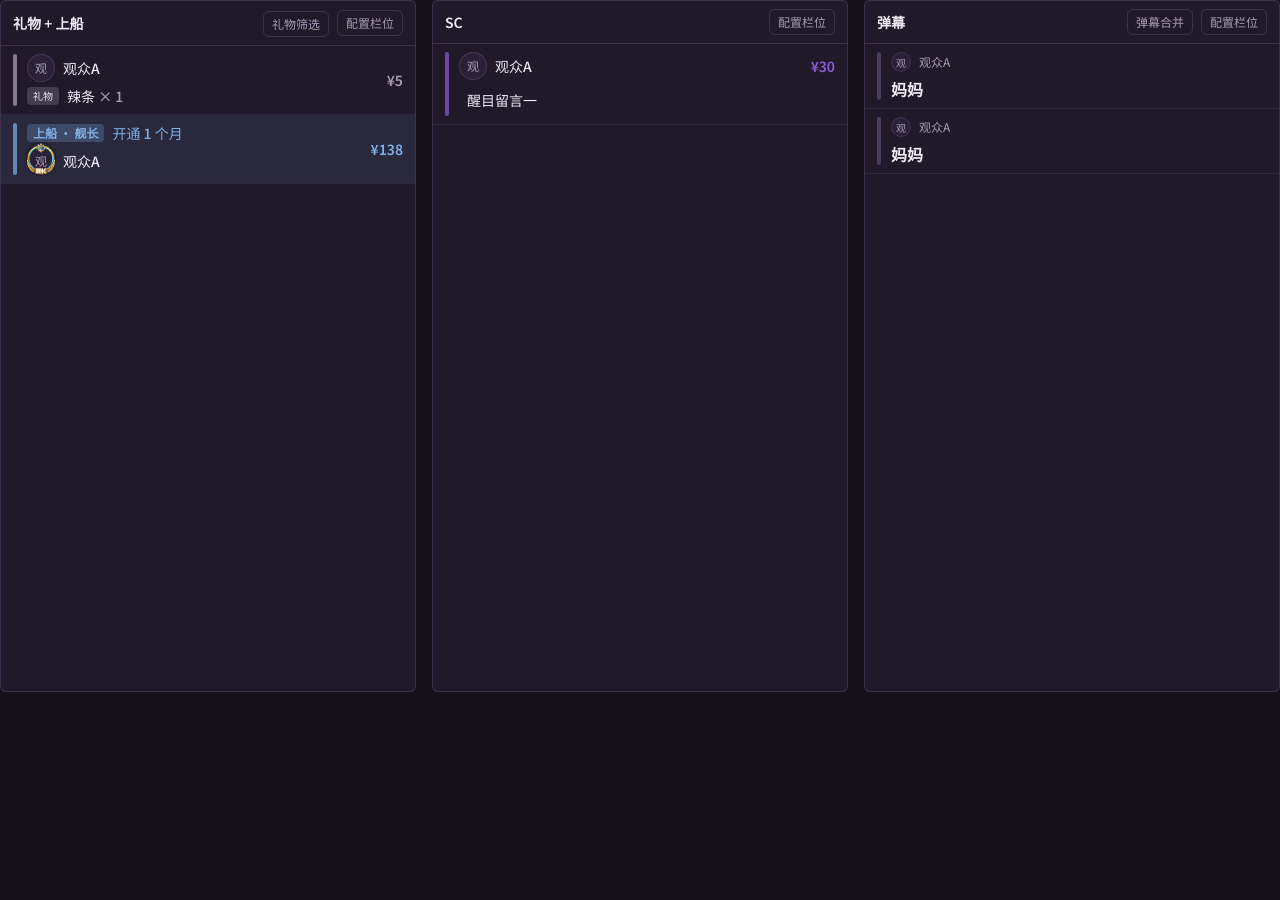
Test: DanmakuDashboard › 开关切换即时折叠（不重新检索）且 localStorage 写入 true
The image size is (1280, 900).
Click the switch labelled "弹幕合并" at (1160, 22), box [1127,9,1193,35]
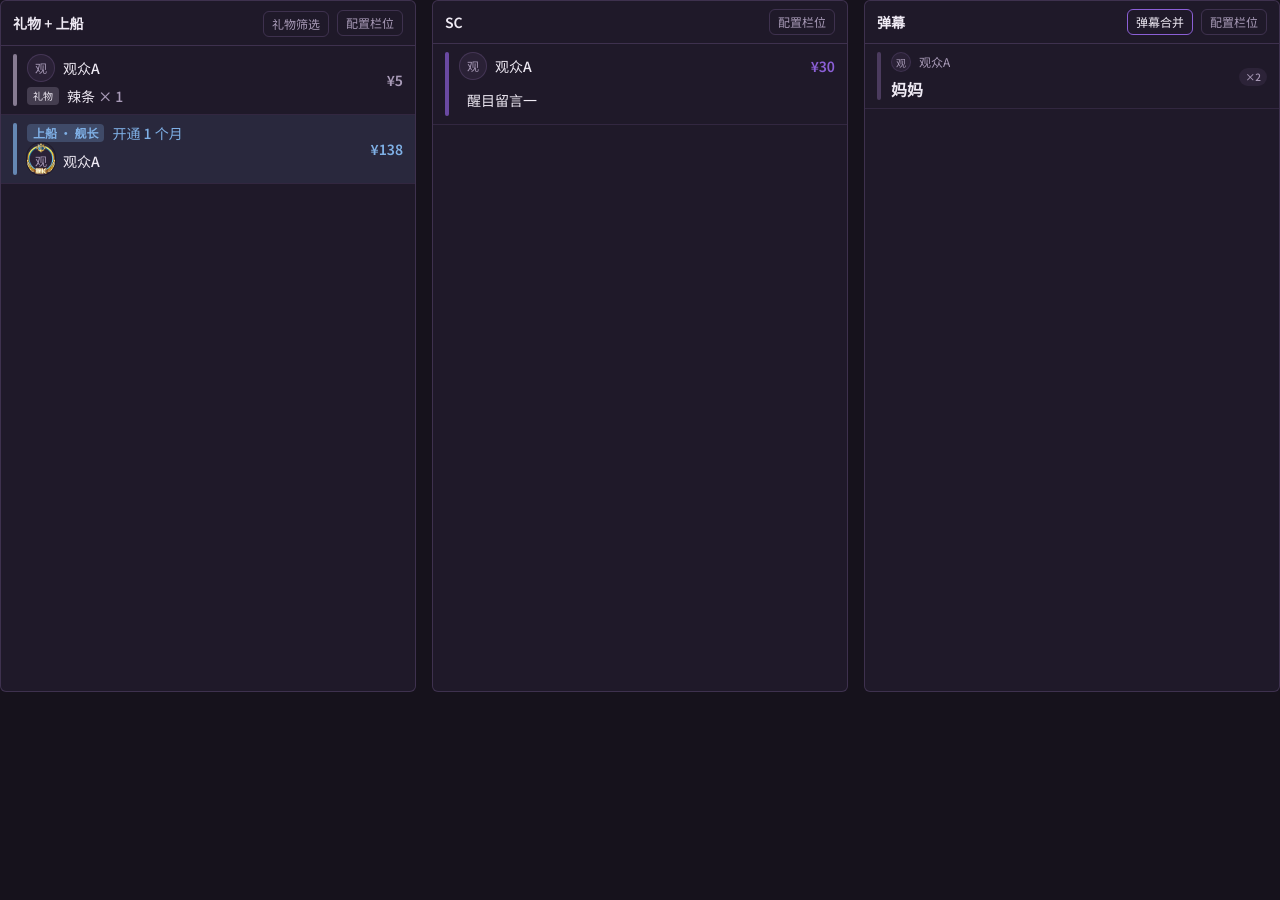
Expected: the text "×2" is shown, [1239,68,1267,86]
